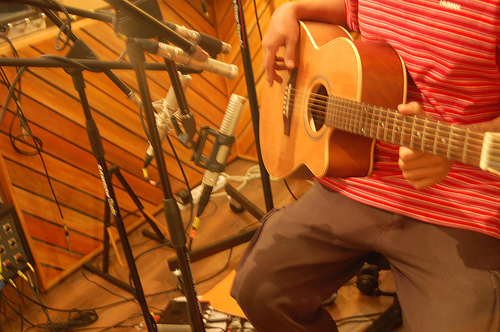guitar: (256, 17, 500, 184)
